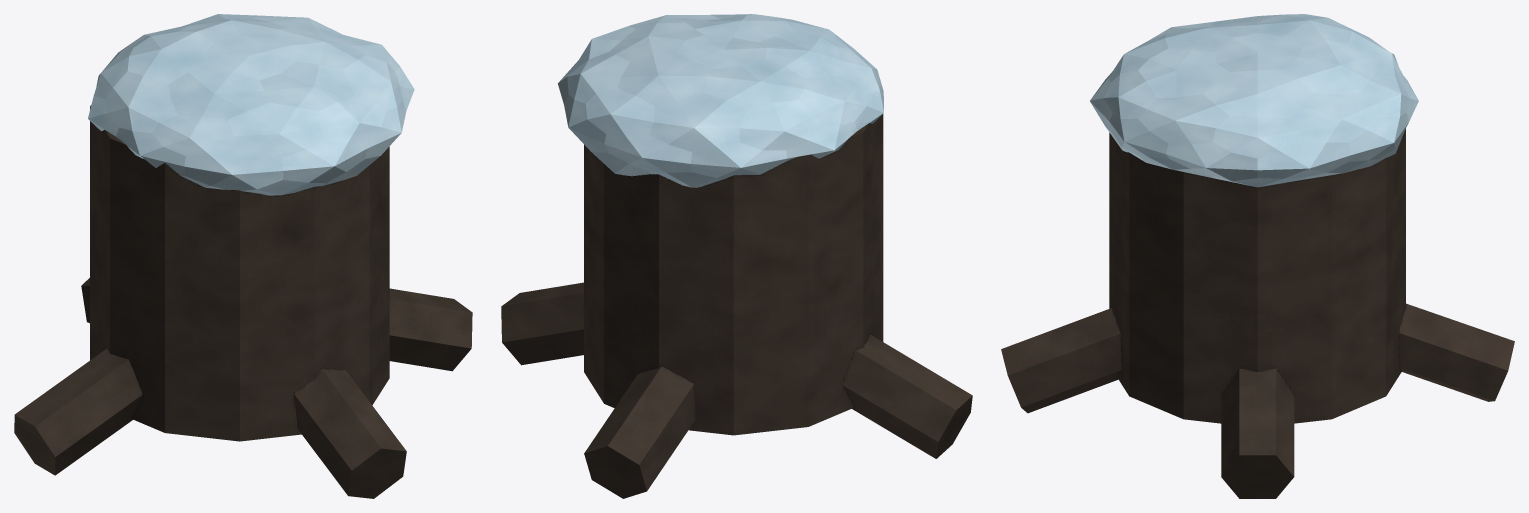
File: arena_snow_stump.glb
The picture shows the model from 3 angles, left to right: view 1: azimuth 30°, elevation 25°; view 2: azimuth 150°, elevation 25°; view 3: azimuth 270°, elevation 25°; orthographic projection.
Visible parts, largest first — view 1: arena_snow_stump; view 2: arena_snow_stump; view 3: arena_snow_stump.
Part boxes in pixels (x1,y1,x2,y2): arena_snow_stump: [14, 14, 472, 498]; arena_snow_stump: [501, 14, 972, 498]; arena_snow_stump: [1001, 14, 1514, 498].
Size of the model in its own units: 2.24 by 1.74 by 2.25.
2 materials, 2 textured.
